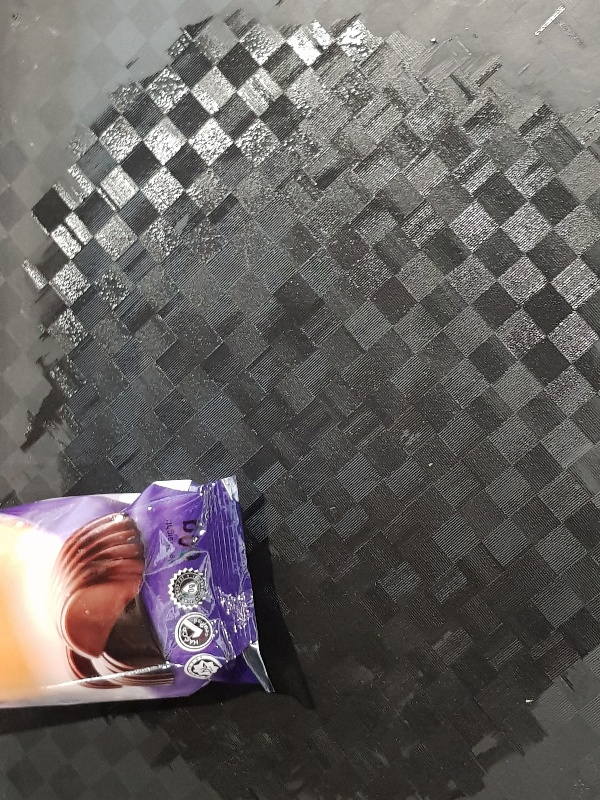Tinges Roll Chocolate: (1, 471, 273, 709)
